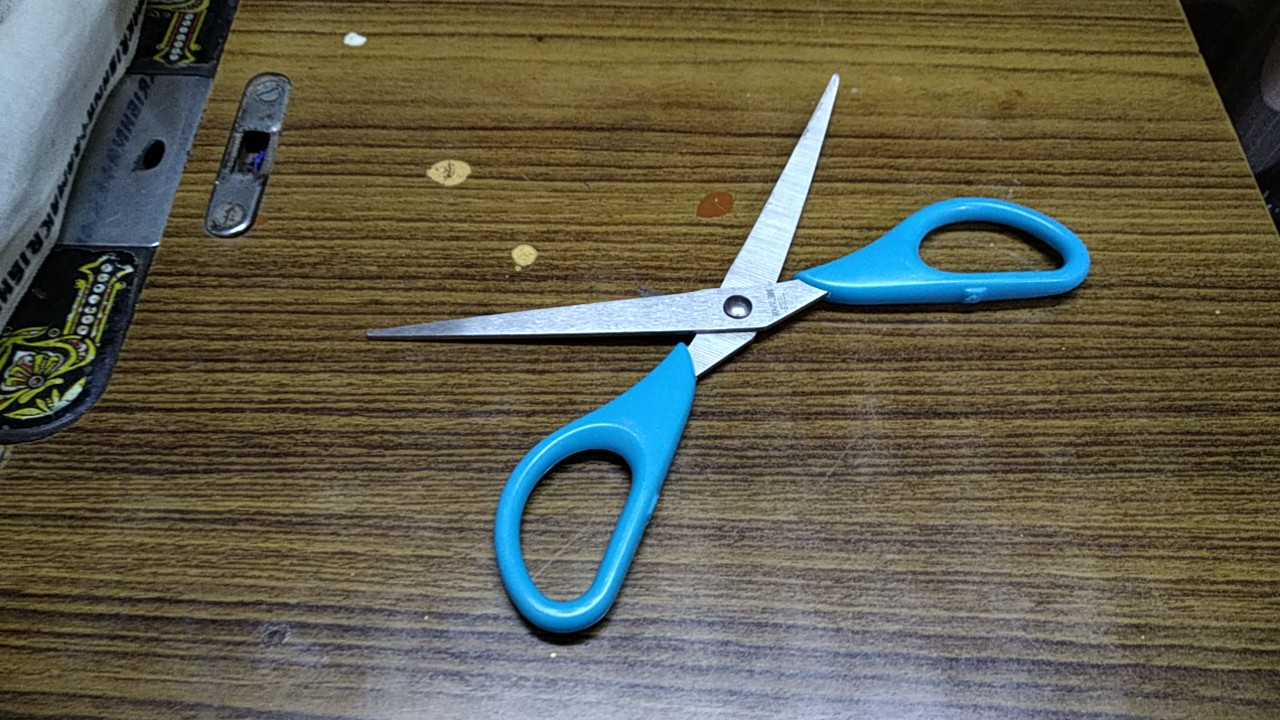scissor: (351, 65, 1102, 662)
